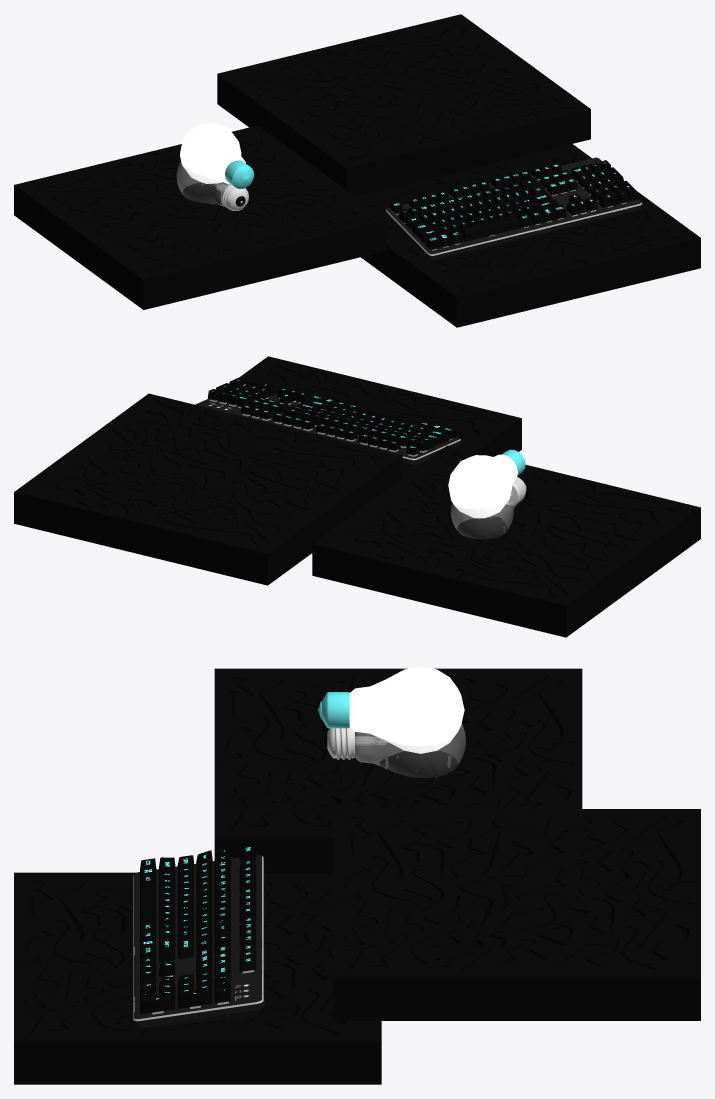
File: hero_model2.glb
3 views of the same model, one above another, from view 1: azimuth 30°, elevation 25°; view 2: azimuth 150°, elevation 25°; view 3: azimuth 270°, elevation 25° (orthographic). The views are drawn at different scales.
Visible parts, largest first — view 1: Cube.003, Cube.001, Cube.002, keys, keyboard, #LMP0003_Light_Bulb_Low_Poly, #LMP0002_Single_Light_Bulb(No_Refraction)_0; view 2: Cube.003, Cube.001, Cube.002, keys, #LMP0003_Light_Bulb_Low_Poly, #LMP0002_Single_Light_Bulb(No_Refraction)_0, keyboard; view 3: Cube.003, Cube.002, Cube.001, keys, #LMP0003_Light_Bulb_Low_Poly, keyboard, #LMP0002_Single_Light_Bulb(No_Refraction)_0.
Part boxes in pixels (x1,y1,x2,y2): Cube.003: [217, 14, 590, 196]; Cube.001: [14, 125, 387, 309]; Cube.002: [356, 144, 700, 327]; keys: [390, 160, 638, 249]; keyboard: [385, 157, 642, 260]; #LMP0003_Light_Bulb_Low_Poly: [180, 123, 254, 188]; #LMP0002_Single_Light_Bulb(No_Refraction)_0: [177, 162, 248, 210]; Cube.003: [14, 393, 402, 585]; Cube.001: [312, 445, 700, 637]; Cube.002: [240, 356, 521, 477]; keys: [207, 377, 456, 455]; #LMP0003_Light_Bulb_Low_Poly: [448, 449, 525, 518]; #LMP0002_Single_Light_Bulb(No_Refraction)_0: [451, 477, 526, 538]; keyboard: [195, 393, 460, 471]; Cube.003: [333, 809, 700, 1020]; Cube.002: [14, 872, 381, 1084]; Cube.001: [214, 668, 582, 873]; keys: [140, 846, 256, 1014]; #LMP0003_Light_Bulb_Low_Poly: [318, 666, 464, 753]; keyboard: [133, 854, 264, 1027]; #LMP0002_Single_Light_Bulb(No_Refraction)_0: [324, 724, 465, 779].
Bounding box in the file's own units: 5.01 × 1.2 × 4.3.
10 materials, 2 textured.
